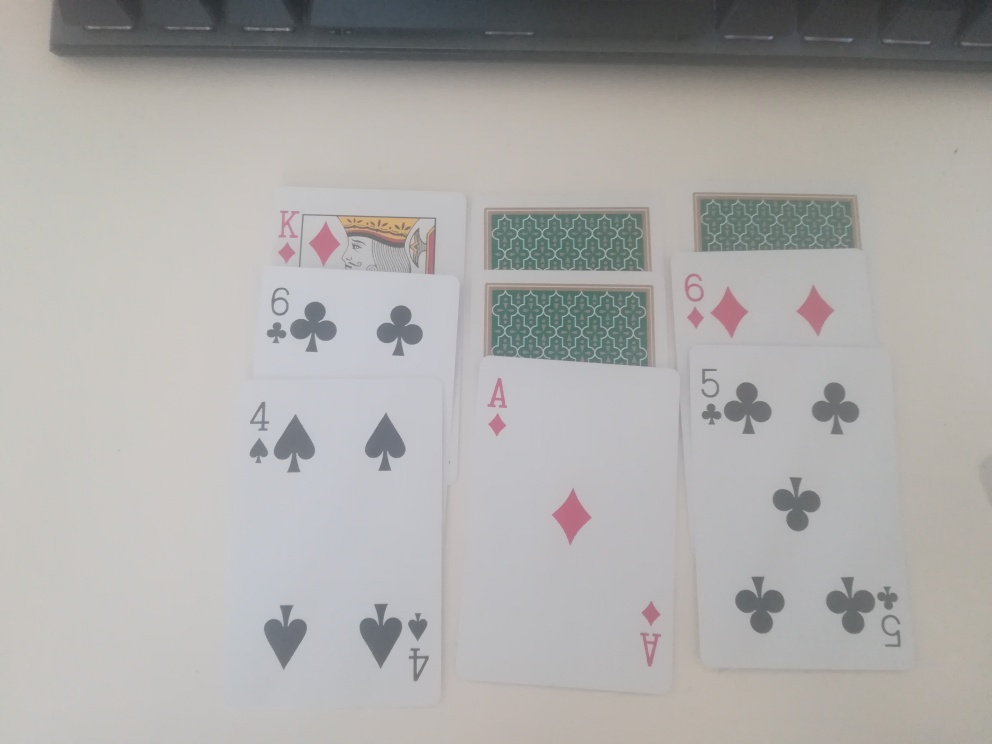4S: (241, 394, 276, 472)
5C: (694, 363, 725, 433)
6C: (264, 279, 295, 352)
6D: (678, 265, 712, 336)
AD: (481, 370, 512, 446)
BACK: (485, 285, 653, 356), (482, 205, 650, 272), (691, 191, 861, 252)
KD: (274, 203, 306, 268)
